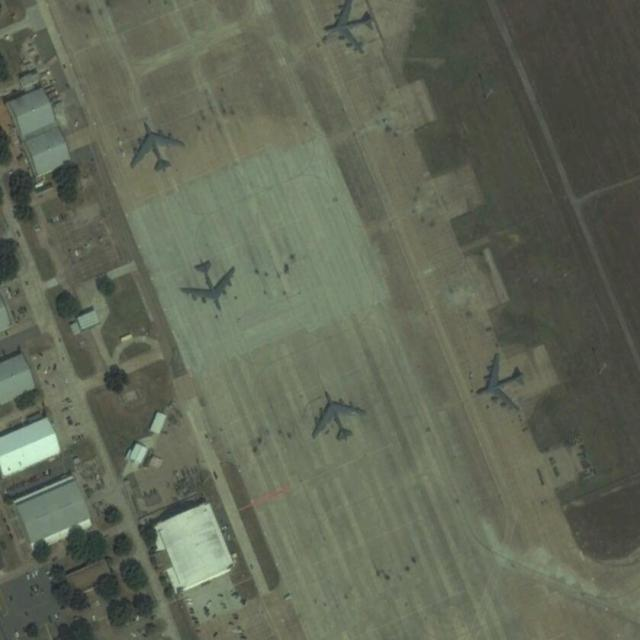fighter jet: (131, 117, 189, 169), (314, 391, 367, 446), (183, 264, 237, 316), (474, 358, 524, 410), (329, 2, 374, 57)
